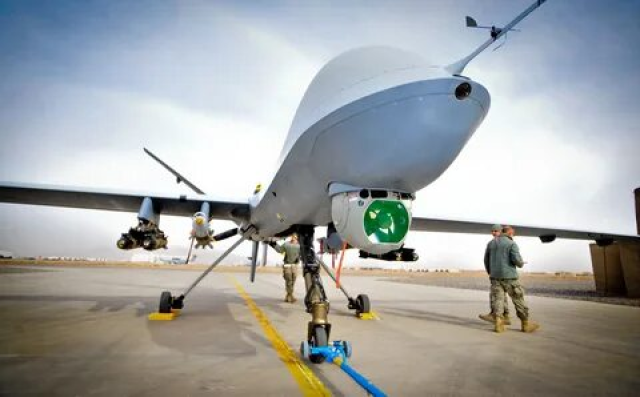military drone: (0, 0, 640, 363)
